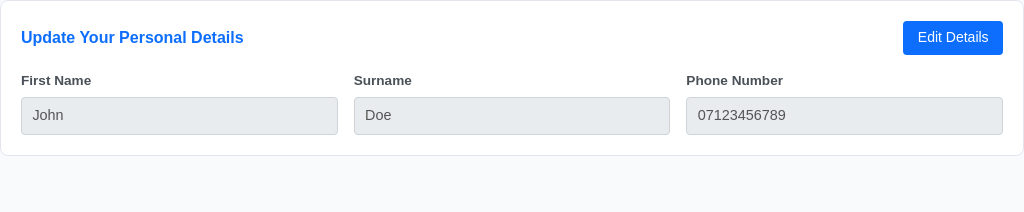
CustomerProfile Component › successfully updates profile details and shows success message
The width and height of the screenshot is (1024, 212).
Expected: the field showing "John" is shown, [21, 97, 338, 135]
Click the button "Edit Details" at (953, 38), box [903, 21, 1003, 55]
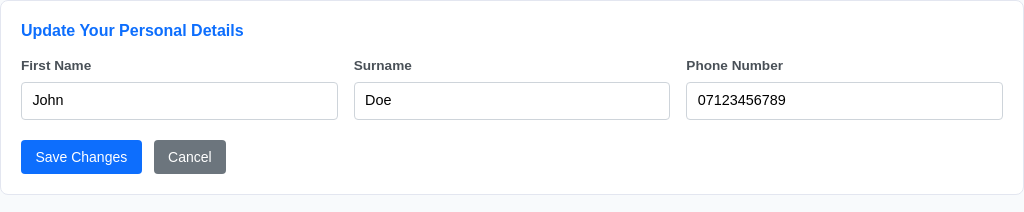
Replace the text in the field labelled "First Name" with "Johnathan" at (179, 101), box [21, 82, 338, 120]
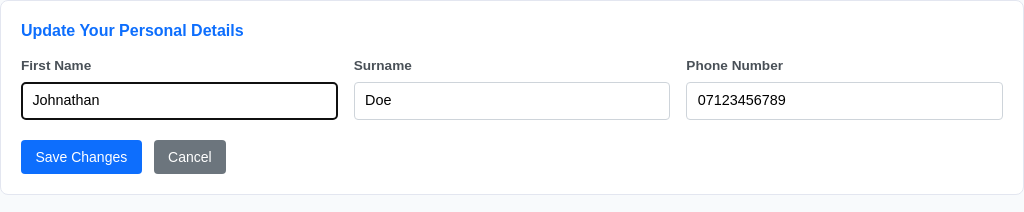
Click the button "Save Changes" at (81, 157), box [21, 140, 142, 174]
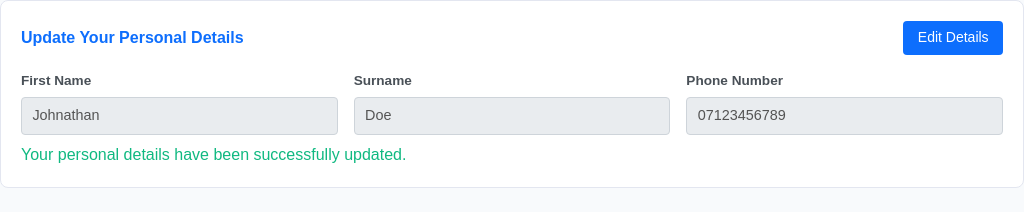
Expected: the text "Your personal details have been successfully updated." is shown, [21, 146, 406, 163]
Expected: the field labelled "First Name" is disabled, [21, 97, 338, 135]
